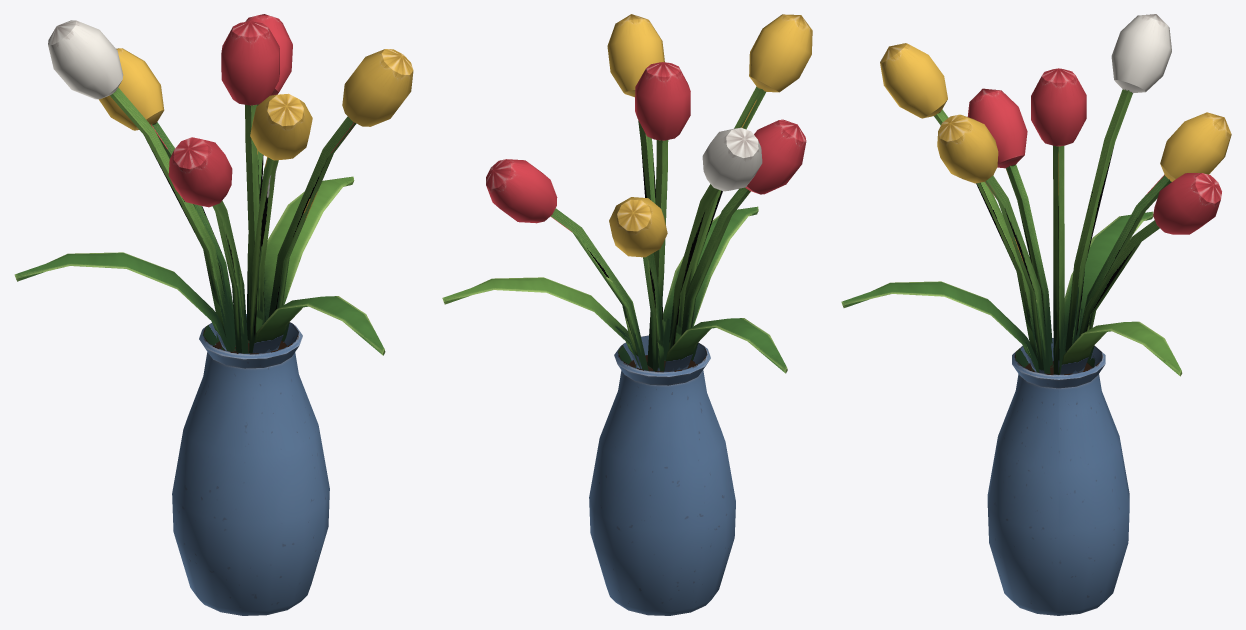
Rendered from Flower_Vase_01.glb.
The picture shows the model from 3 angles, left to right: view 1: azimuth 30°, elevation 25°; view 2: azimuth 150°, elevation 25°; view 3: azimuth 270°, elevation 25°; orthographic projection. The views are drawn at different scales.
Parts seen in each view (by area): view 1: Flower_Vase_01; view 2: Flower_Vase_01; view 3: Flower_Vase_01.
Part boxes in pixels (x1,y1,x2,y2): Flower_Vase_01: [14, 14, 413, 615]; Flower_Vase_01: [442, 14, 812, 615]; Flower_Vase_01: [841, 14, 1231, 615].
Bounding box in the file's own units: 0.29 × 0.4471 × 0.3005.
1 material, 1 textured.
